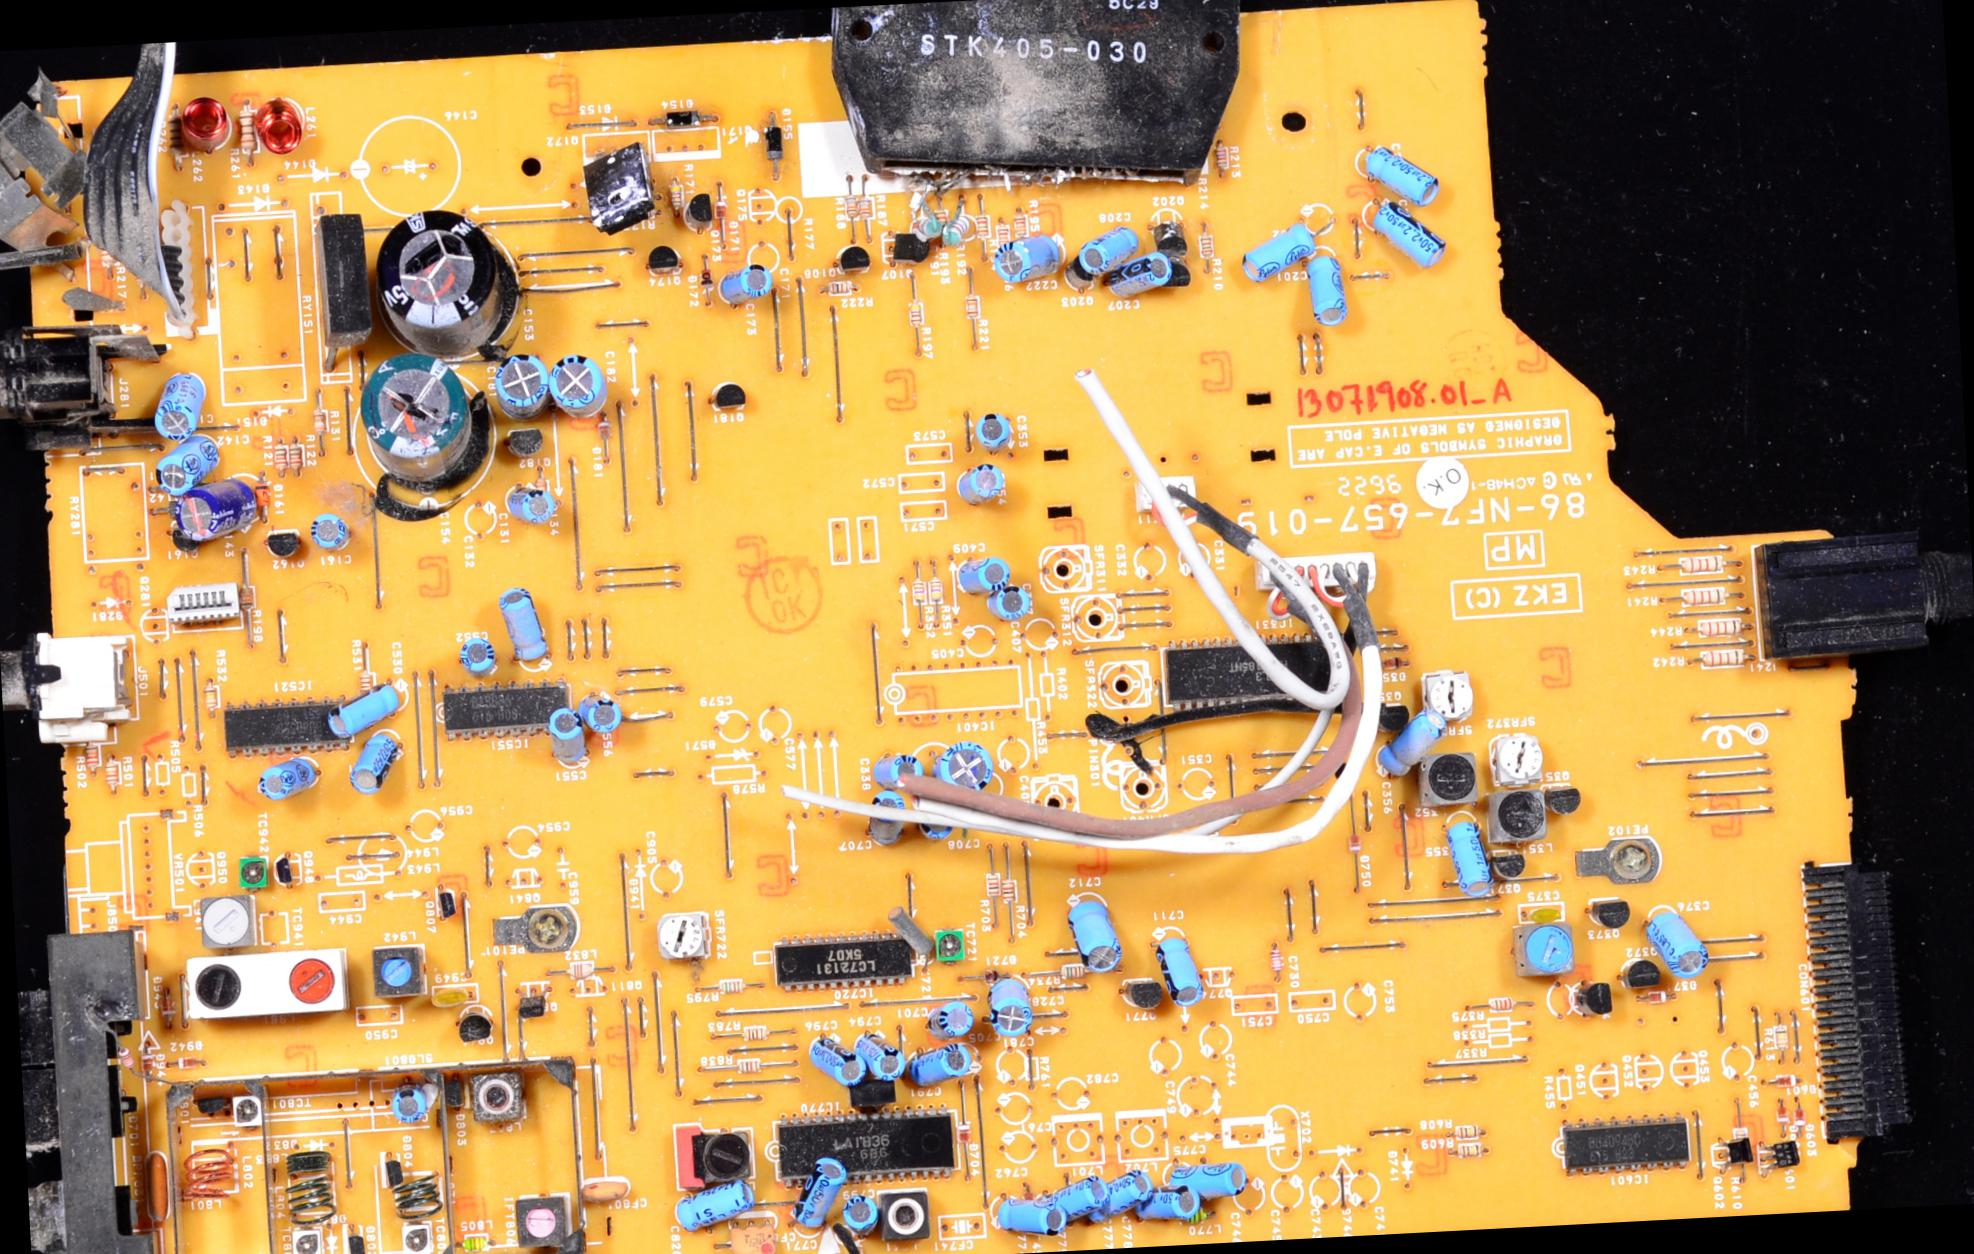Capacitor Jumper: (354, 348, 483, 480), (1364, 198, 1449, 283), (1348, 129, 1446, 203), (1229, 220, 1328, 288), (171, 473, 263, 545), (1147, 926, 1222, 1012), (1062, 884, 1125, 982), (1439, 813, 1505, 906), (1642, 899, 1711, 978), (1073, 216, 1147, 288), (148, 434, 227, 500), (1377, 706, 1447, 779), (929, 729, 997, 805), (150, 360, 207, 443), (672, 1181, 764, 1232), (975, 969, 1043, 1040), (1289, 252, 1355, 324), (997, 226, 1059, 299), (984, 1195, 1076, 1242), (793, 1159, 850, 1234), (1141, 1175, 1216, 1232), (498, 578, 548, 663), (496, 351, 555, 423), (332, 674, 400, 736), (548, 337, 599, 418), (1118, 252, 1188, 309), (905, 1038, 977, 1094), (804, 1028, 866, 1093), (341, 731, 401, 795), (1178, 1148, 1242, 1208), (853, 787, 919, 843), (717, 257, 775, 319), (1060, 1169, 1115, 1234), (252, 746, 315, 801), (576, 683, 636, 739), (912, 788, 968, 848), (952, 454, 1014, 509), (872, 738, 935, 791), (538, 705, 590, 769), (853, 1024, 908, 1084), (450, 626, 504, 685), (1102, 1168, 1157, 1224), (950, 548, 1006, 601), (974, 401, 1027, 454), (504, 480, 560, 526), (309, 502, 351, 555), (987, 578, 1033, 624), (578, 1171, 636, 1207), (837, 1194, 885, 1232), (928, 1002, 977, 1040), (388, 1081, 429, 1123)
IC: (1163, 624, 1365, 725), (1544, 1104, 1711, 1175), (778, 1113, 968, 1173), (771, 930, 909, 989)
Resistor Jumper: (1691, 641, 1748, 673), (1685, 613, 1744, 641), (1679, 584, 1734, 611), (1672, 552, 1725, 577), (975, 864, 1010, 902), (908, 209, 944, 242), (944, 210, 974, 246), (663, 177, 691, 216), (737, 1017, 771, 1045), (99, 755, 125, 792), (820, 275, 858, 301), (306, 407, 337, 439), (711, 974, 744, 1001), (79, 738, 105, 772), (1450, 1120, 1485, 1145), (1732, 1119, 1752, 1161), (1452, 1136, 1486, 1159), (986, 220, 1011, 250), (357, 663, 376, 705), (199, 682, 223, 713), (971, 206, 994, 239), (729, 1058, 764, 1080), (1000, 874, 1020, 910), (286, 439, 306, 475), (958, 292, 984, 319), (905, 296, 927, 328), (269, 443, 291, 475), (856, 187, 876, 220), (839, 191, 860, 221), (1485, 995, 1516, 1014)
Transistor: (374, 196, 485, 338)
